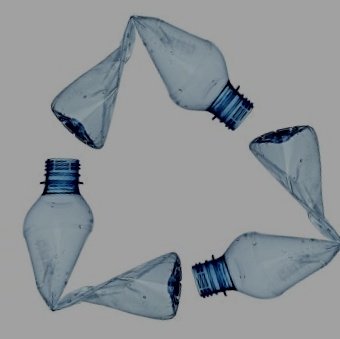plastic: (15, 149, 186, 337), (39, 6, 254, 142), (189, 146, 338, 317)
